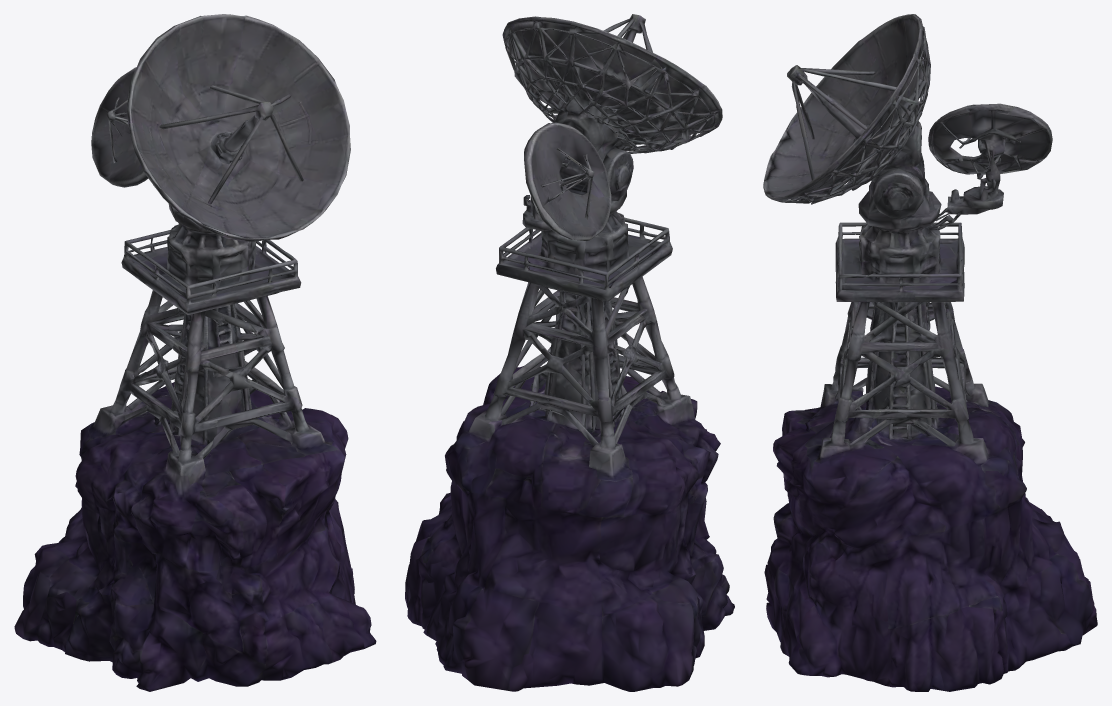
The model's file is tower.glb.
3 views of the same model, side by side, from view 1: azimuth 30°, elevation 25°; view 2: azimuth 150°, elevation 25°; view 3: azimuth 270°, elevation 25° (orthographic). The views are drawn at different scales.
Visible parts, largest first — view 1: mesh_node; view 2: mesh_node; view 3: mesh_node.
Boxes of the visible parts, <box> form: mesh_node: <box>14,14,376,691</box>; mesh_node: <box>405,14,734,691</box>; mesh_node: <box>763,14,1097,691</box>.
Bounding box in the file's own units: 0.9685 × 1.9 × 0.9717.
1 material, 1 textured.
